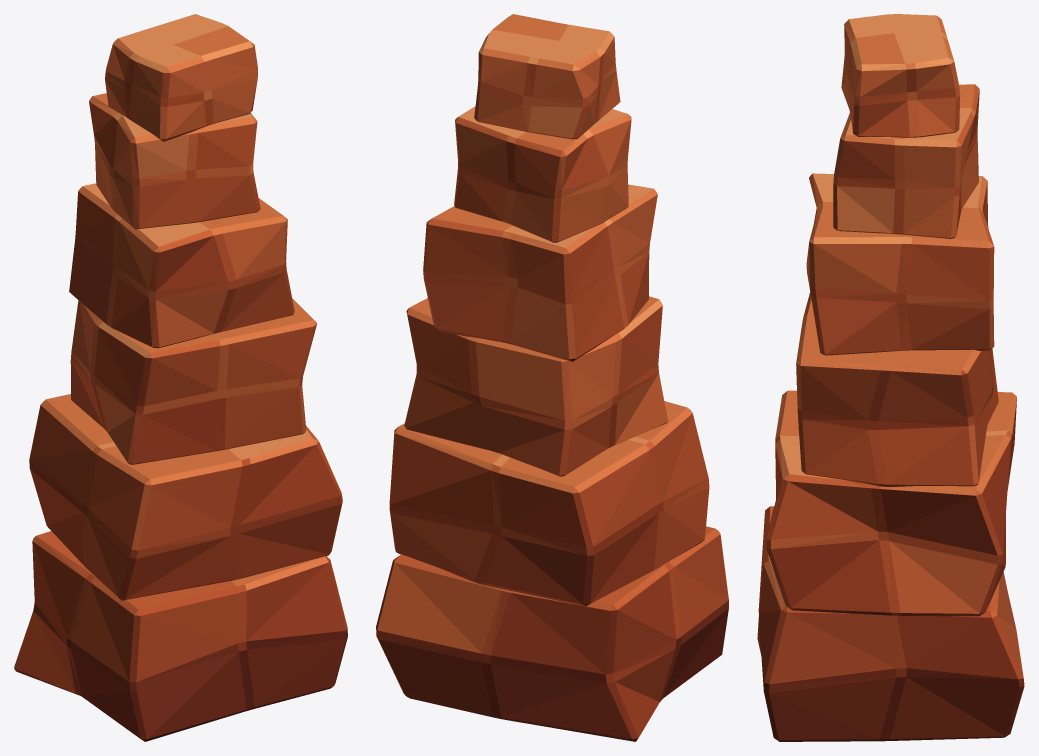
Rendered from SM_CLIFF_TOWER_02.fbx.
3 renders of one model, left to right at view 1: azimuth 30°, elevation 25°; view 2: azimuth 150°, elevation 25°; view 3: azimuth 270°, elevation 25°, orthographic. The views are drawn at different scales.
Parts seen in each view (by area): view 1: CLIFF_TOWER_02; view 2: CLIFF_TOWER_02; view 3: CLIFF_TOWER_02.
Boxes of the visible parts, x1,y1,x2,y2 form: CLIFF_TOWER_02: (14,14,347,741); CLIFF_TOWER_02: (376,14,728,741); CLIFF_TOWER_02: (757,14,1024,741).
Size of the model in its own units: 3.49 by 3.21 by 8.7.
